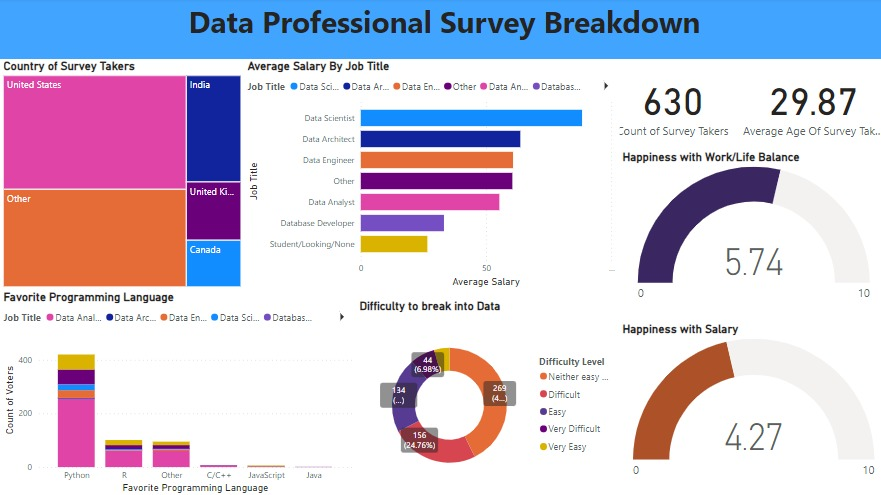

The dashboard page shown, as its layout file describes it:
{"tool":"powerbi","page":{"name":"Page 1","canvas":[1280,720],"ordinal":0},"visuals":[{"type":"textbox","box":[0,0,1280,87.9],"z":0},{"type":"card","fields":{"Values":["Count(Data Professional Survey.Unique ID)"]},"box":[875.4,87.9,185.7,131],"z":1000},{"type":"card","fields":{"Values":["Avg(Data Professional Survey.Q10 - Current Age)"]},"box":[1061.1,87.9,218.9,131],"z":2000},{"type":"barChart","title":"Average Salary By Job Title","fields":{"Category":["Data Professional Survey.Q1 - Which Title Best Fits your Current Role?.1"],"Y":["Avg(Data Professional Survey.Average Salary)"],"Series":["Data Professional Survey.Q1 - Which Title Best Fits your Current Role?.1"]},"box":[351.5,87.9,540.5,333.3],"z":3000},{"type":"columnChart","title":"Favorite Programming Language","fields":{"Category":["Data Professional Survey.Q5 - Favorite Programming Language.1"],"Y":["CountNonNull(Data Professional Survey.Unique ID)"],"Series":["Data Professional Survey.Q1 - Which Title Best Fits your Current Role?.1"]},"box":[0,421.1,512.3,298.4],"z":4000},{"type":"treemap","title":"Country of Survey Takers","fields":{"Group":["Data Professional Survey.Q11 - Which Country do you live in?.1"],"Values":["CountNonNull(Data Professional Survey.Q11 - Which Country do you live in?.1)"]},"box":[0,87.9,351.5,333.3],"z":5000},{"type":"gauge","title":"Happiness with Work/Life Balance","fields":{"Y":["Avg(Data Professional Survey.Q6 - How Happy are you in your Current Position with the following? (Work/Life Balance))"],"MaxValue":["Max(Data Professional Survey.Q6 - How Happy are you in your Current Position with the following? (Work/Life Balance))1"],"MinValue":["Min(Data Professional Survey.Q6 - How Happy are you in your Current Position with the following? (Work/Life Balance))"]},"box":[892,218.9,388,227.2],"z":6000},{"type":"gauge","title":"Happiness with Salary","fields":{"Y":["Avg(Data Professional Survey.Q6 - How Happy are you in your Current Position with the following? (Salary))"],"MinValue":["Min(Data Professional Survey.Q6 - How Happy are you in your Current Position with the following? (Salary))"],"MaxValue":["Max(Data Professional Survey.Q6 - How Happy are you in your Current Position with the following? (Salary))1"]},"box":[892,465.9,388,233.8],"z":7000},{"type":"donutChart","title":"Difficulty to break into Data","fields":{"Category":["Data Professional Survey.Q7 - How difficult was it for you to break into Data?"],"Y":["CountNonNull(Data Professional Survey.Q7 - How difficult was it for you to break into Data?)"],"Series":["Data Professional Survey.Q7 - How difficult was it for you to break into Data?"]},"box":[512.3,432.7,379.7,286.8],"z":8000}]}

Visuals, with their boxes in screenshot pixels (x1, y1, x2, y2), scaled from the page's 1280x720 canvas onto the 881x495 screenshot:
textbox: region(0, 0, 880, 60)
card - Count(Data Professional Survey.Unique ID): region(603, 60, 730, 150)
card - Avg(Data Professional Survey.Q10 - Current Age): region(730, 60, 880, 150)
"Average Salary By Job Title" barChart: region(242, 60, 614, 290)
"Favorite Programming Language" columnChart: region(0, 290, 353, 494)
"Country of Survey Takers" treemap: region(0, 60, 242, 290)
"Happiness with Work/Life Balance" gauge: region(614, 150, 880, 307)
"Happiness with Salary" gauge: region(614, 320, 880, 481)
"Difficulty to break into Data" donutChart: region(353, 297, 614, 494)
